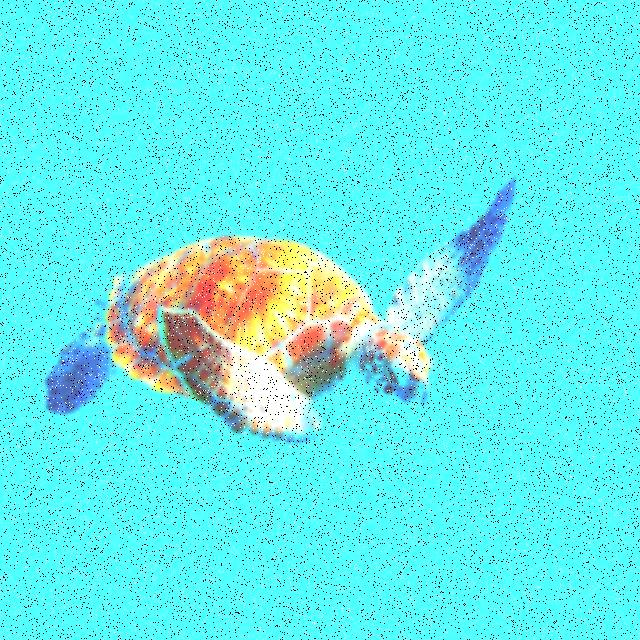tortoise: (38, 168, 536, 454)
